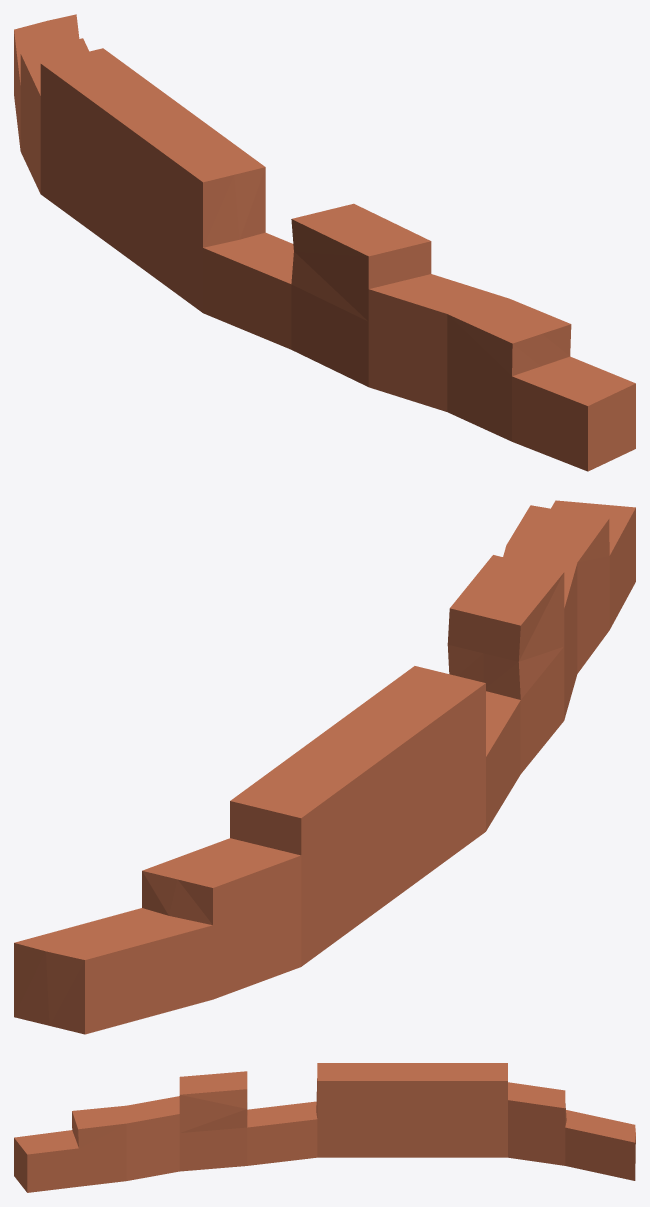
The model's file is murek.obj.
The picture shows the model from 3 angles, top to bottom: view 1: azimuth 30°, elevation 25°; view 2: azimuth 150°, elevation 25°; view 3: azimuth 270°, elevation 25°; orthographic projection. The views are drawn at different scales.
Parts seen in each view (by area): view 1: Cube; view 2: Cube; view 3: Cube.
Part boxes in pixels (x1,y1,x2,y2): Cube: (14, 14, 635, 471); Cube: (14, 500, 635, 1034); Cube: (14, 1063, 635, 1192).
Bounding box in the file's own units: 1.48 × 1 × 7.34.
